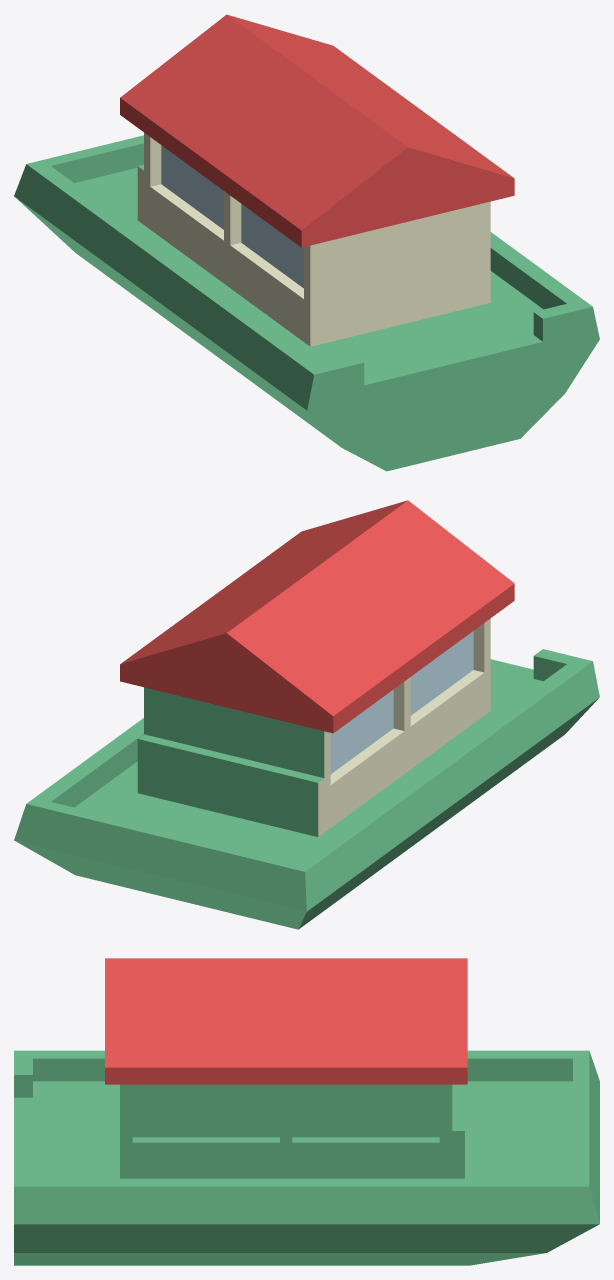
The model's file is boat_024.fbx.
3 renders of one model, top to bottom at view 1: azimuth 30°, elevation 25°; view 2: azimuth 150°, elevation 25°; view 3: azimuth 270°, elevation 25°, orthographic.
Visible parts, largest first — view 1: boat_024; view 2: boat_024; view 3: boat_024.
Part boxes in pixels (x1,y1,x2,y2): boat_024: (14,14,599,471); boat_024: (14,500,599,929); boat_024: (14,958,599,1265).
Bounding box in the file's own units: 26.77 × 24 × 46.44.
